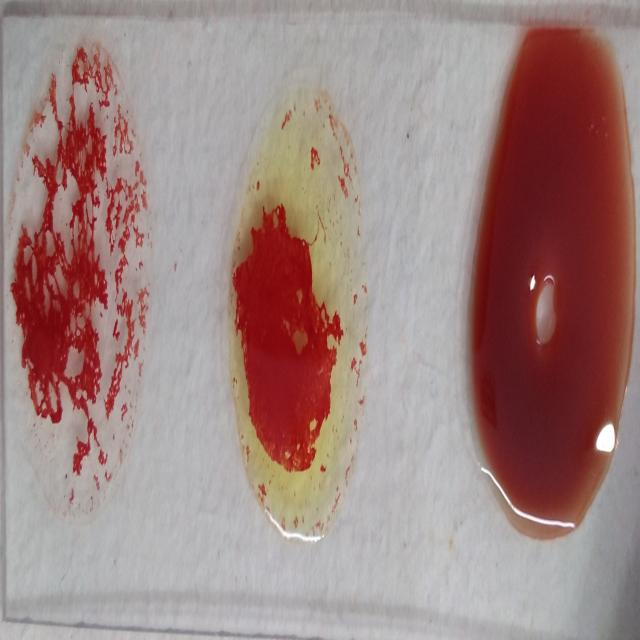B: (228, 74, 371, 546)
D: (13, 34, 152, 533)
